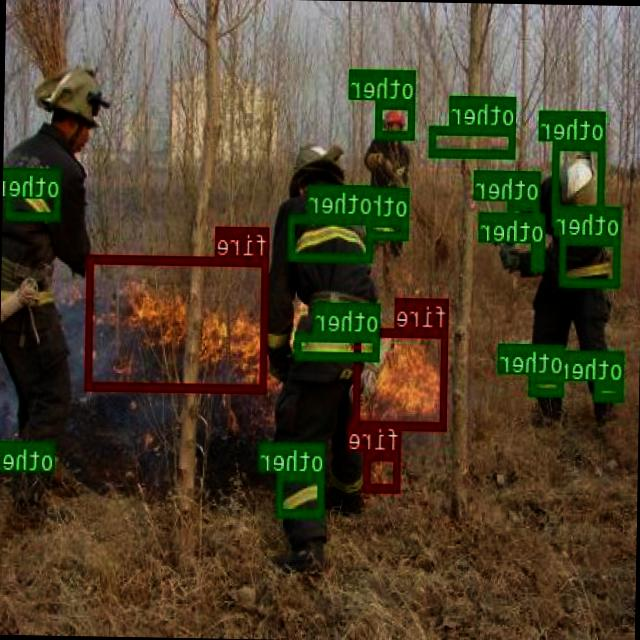fire: (86, 253, 269, 391), (354, 326, 449, 428), (365, 449, 402, 490)
